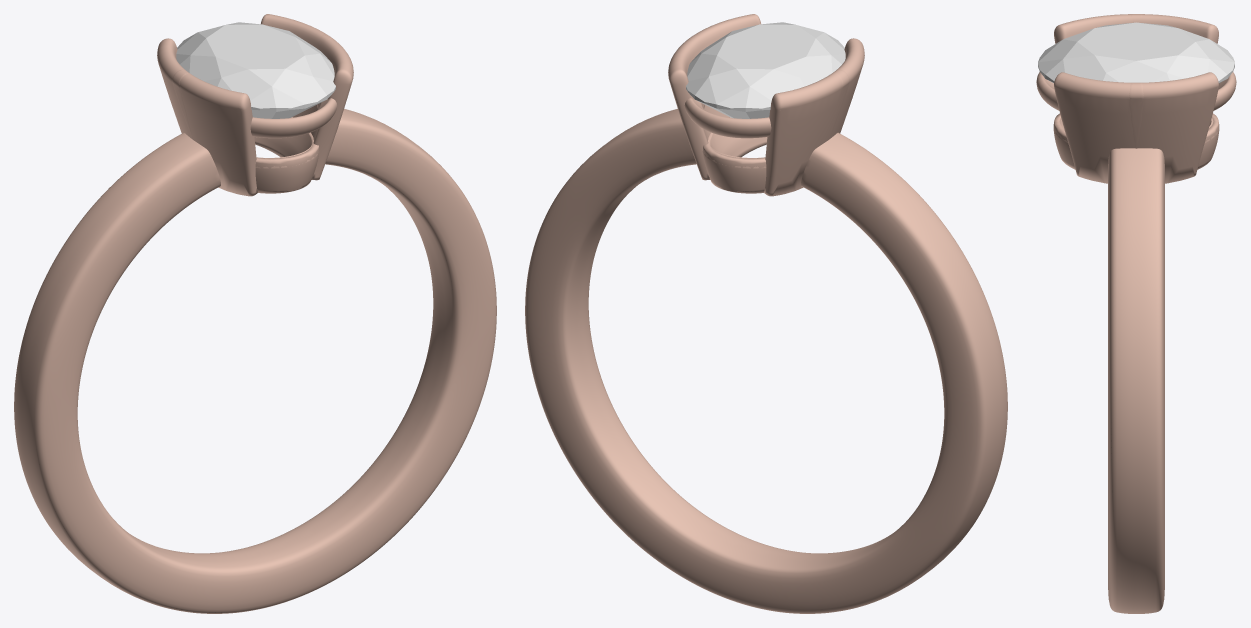
File: diamond-oval-rosegold-halfmoonbezel-straightband-nosidestones.glb
3 views of the same model, side by side, from view 1: azimuth 30°, elevation 25°; view 2: azimuth 150°, elevation 25°; view 3: azimuth 270°, elevation 25° (orthographic).
Parts seen in each view (by area): view 1: metal, stone; view 2: metal, stone; view 3: metal, stone.
Boxes of the visible parts, x1,y1,x2,y2 form: metal: [14, 14, 496, 613]; stone: [176, 22, 335, 118]; metal: [525, 14, 1007, 613]; stone: [686, 22, 845, 118]; metal: [1036, 14, 1236, 613]; stone: [1038, 22, 1234, 83].
Bounding box in the file's own units: 20.51 × 23.41 × 7.75.
